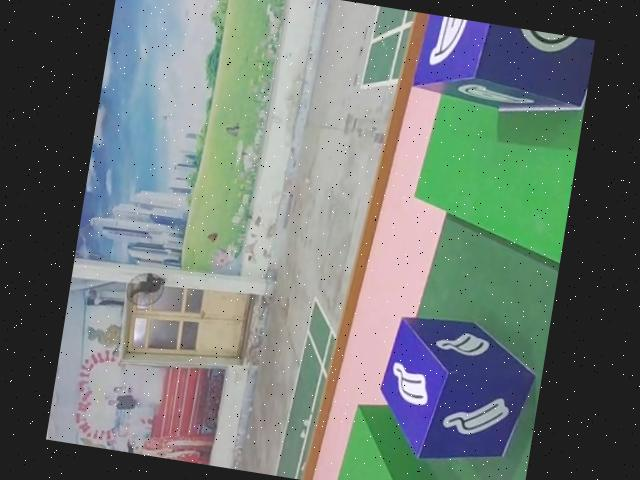R2 Real Blue: (371, 312, 546, 477), (410, 14, 595, 123)
